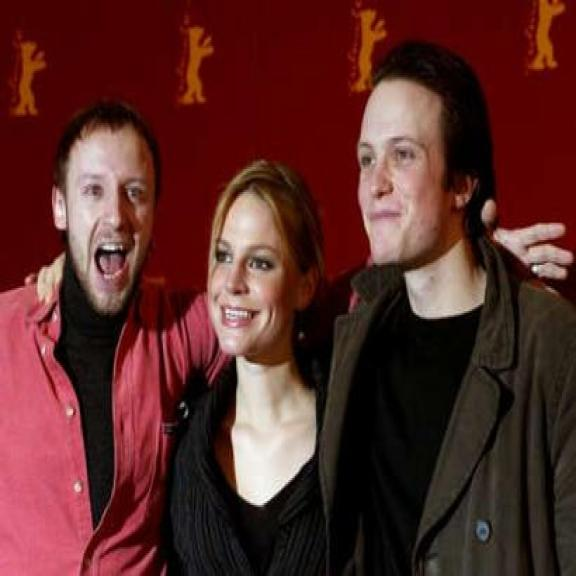face: (354, 76, 479, 269), (199, 181, 322, 363), (49, 118, 157, 316)
